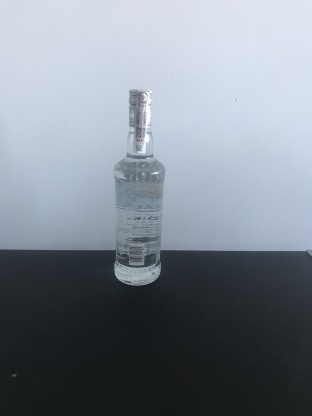nakretka: (126, 84, 154, 130)
